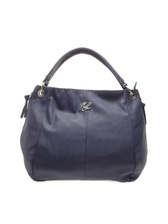bag: (15, 48, 150, 187)
